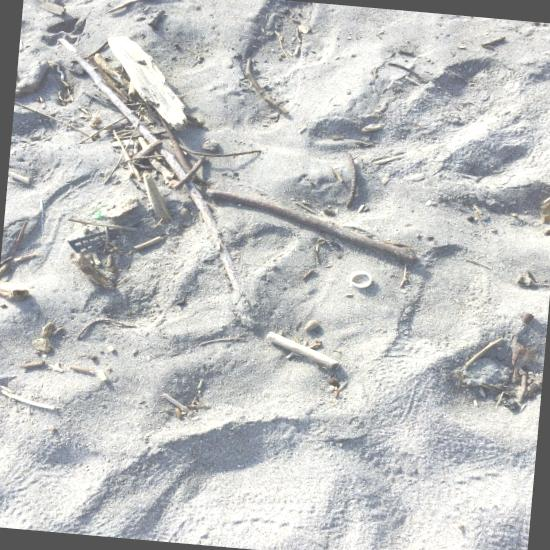Other plastic bottle: (67, 229, 105, 255), (91, 205, 107, 218), (39, 198, 43, 234)
Plastic bottle cap: (349, 270, 371, 288)
